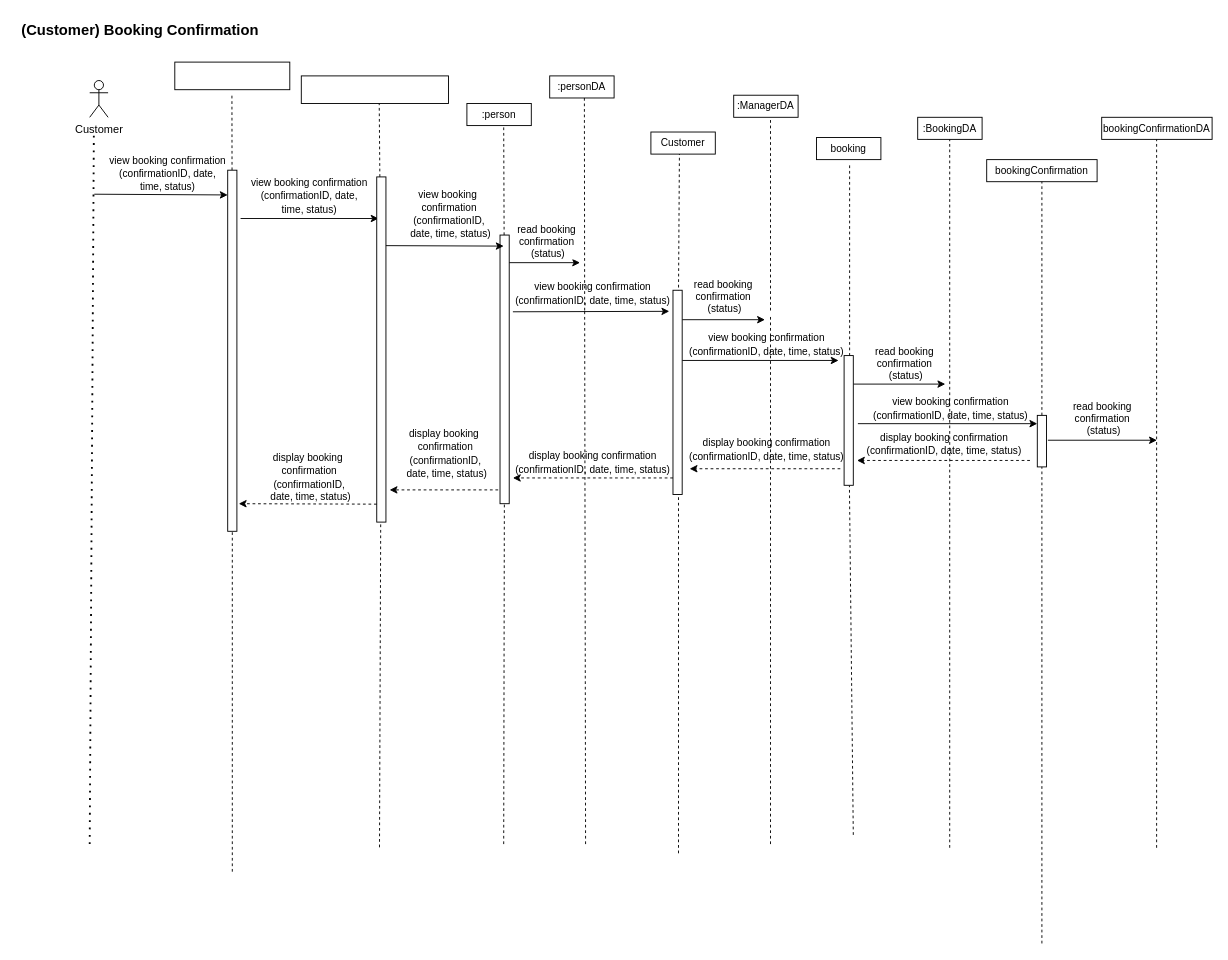
This 1228x960 diagram has some shape labels left out. The centre of each missing label's shape, as x and y in pixels:
"<< controller >> BookingConfirmationHandler" goes at [374,89].
"<< view Layer >> Booking Confirmation" goes at [232,75].
